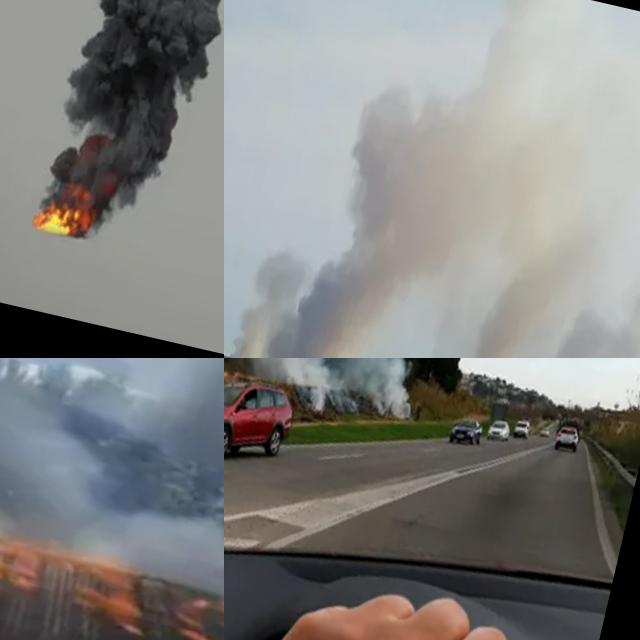smoke: (284, 0, 513, 358), (35, 0, 224, 256), (0, 427, 224, 599), (436, 221, 571, 358), (540, 222, 640, 358), (130, 358, 224, 498), (224, 241, 312, 358), (224, 358, 371, 419), (334, 358, 438, 424)
